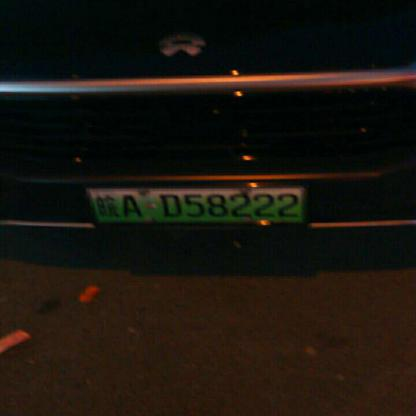lp: (87, 189, 302, 220)
